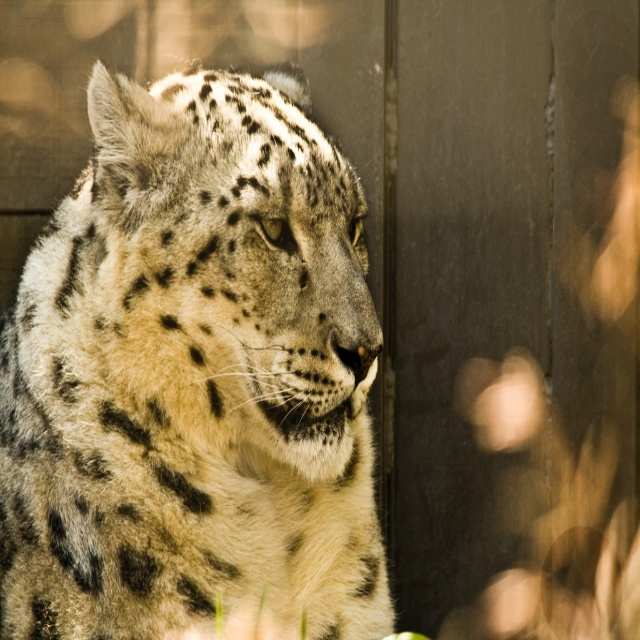Jaguar: (0, 52, 408, 640)
